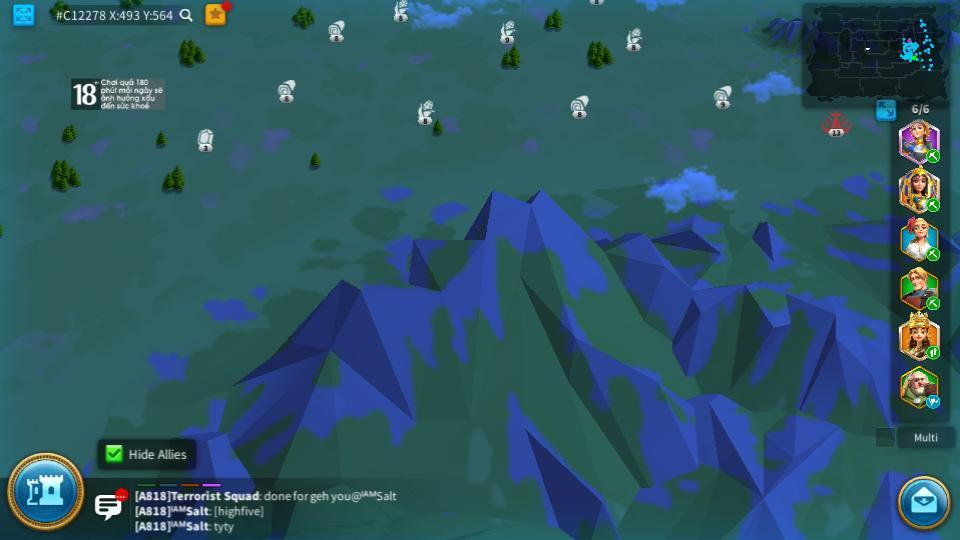gem-z-out: (193, 129, 215, 151)
march_idle: (925, 396, 942, 408)
march_marching: (925, 196, 941, 211), (925, 345, 941, 359), (925, 150, 941, 162), (925, 297, 942, 308), (925, 250, 942, 261)
